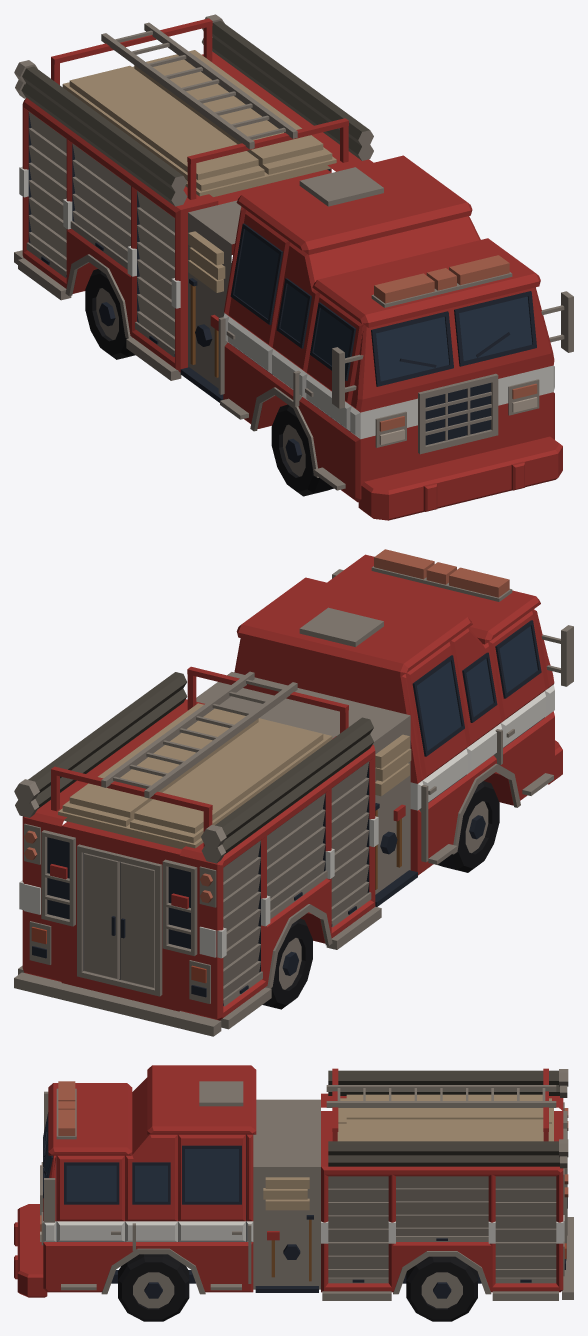
Rendered from fire-engine-7d476b.glb.
3 views of the same model, one above another, from view 1: azimuth 30°, elevation 25°; view 2: azimuth 150°, elevation 25°; view 3: azimuth 270°, elevation 25° (orthographic). The views are drawn at different scales.
Visible parts, largest first — view 1: body, door-rr, ladder, door-fr, wheel-fr, wheel-rr; view 2: body, door-rr, door-fr, ladder, wheel-fr, wheel-rr; view 3: body, door-rl, door-fl, wheel-fl, wheel-rl, ladder.
Boxes of the visible parts, left/top/right/bottom form: body: left=14, top=14, right=573, bottom=520; door-rr: left=226, top=210, right=290, bottom=373; ladder: left=101, top=22, right=297, bottom=149; door-fr: left=305, top=293, right=363, bottom=430; wheel-fr: left=271, top=404, right=333, bottom=496; wheel-rr: left=85, top=269, right=135, bottom=359; body: left=14, top=549, right=573, bottom=1036; door-rr: left=405, top=642, right=467, bottom=802; door-fr: left=488, top=611, right=545, bottom=747; ladder: left=101, top=671, right=297, bottom=798; wheel-fr: left=437, top=781, right=499, bottom=872; wheel-rr: left=262, top=918, right=312, bottom=1009; body: left=14, top=1065, right=573, bottom=1300; door-rl: left=178, top=1134, right=245, bottom=1241; door-fl: left=57, top=1155, right=124, bottom=1241; wheel-fl: left=118, top=1254, right=189, bottom=1321; wheel-rl: left=406, top=1256, right=477, bottom=1321; ladder: left=326, top=1085, right=556, bottom=1107.
Bounding box in the file's own units: 2.94 × 3.04 × 7.86.
